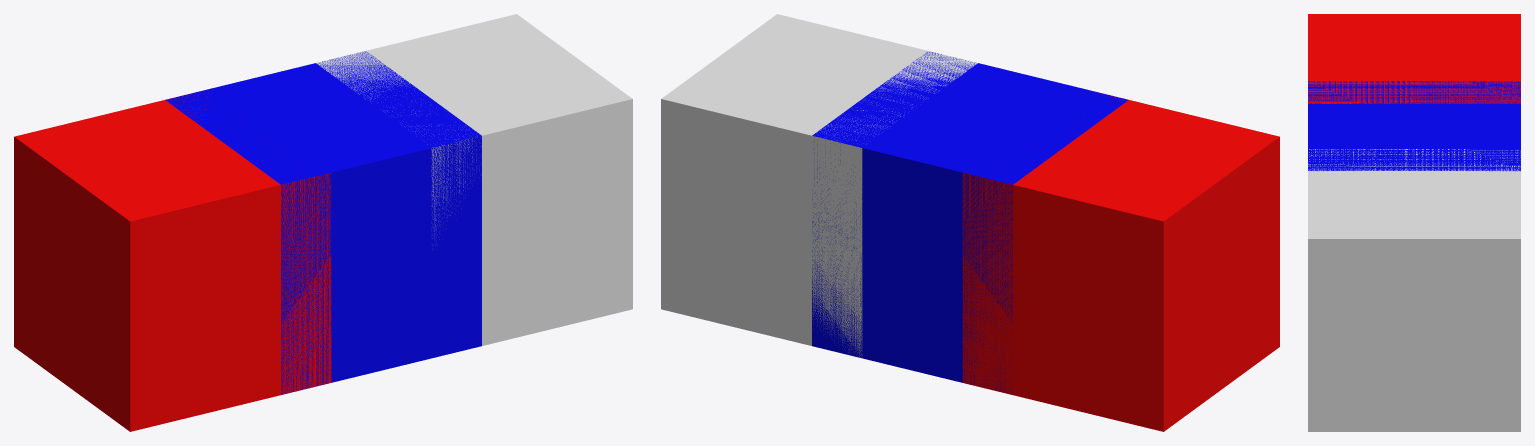
3 views of the same model, side by side, from view 1: azimuth 30°, elevation 25°; view 2: azimuth 150°, elevation 25°; view 3: azimuth 270°, elevation 25° (orthographic). The views are drawn at different scales.
Parts seen in each view (by area): view 1: Cube 1, Cube 2, Cube 3; view 2: Cube 1, Cube 3, Cube 2; view 3: Cube 3, Cube 2, Cube 1.
Part boxes in pixels (x1=…): Cube 1: x1=14, y1=88, x2=331, y2=431; Cube 2: x1=165, y1=51, x2=481, y2=394; Cube 3: x1=316, y1=14, x2=632, y2=345; Cube 1: x1=962, y1=90, x2=1279, y2=431; Cube 3: x1=661, y1=14, x2=977, y2=357; Cube 2: x1=812, y1=52, x2=1128, y2=393; Cube 3: x1=1308, y1=149, x2=1520, y2=431; Cube 2: x1=1308, y1=81, x2=1520, y2=171; Cube 1: x1=1308, y1=14, x2=1520, y2=103.
Bounding box in the file's own units: 500 × 200 × 200.
